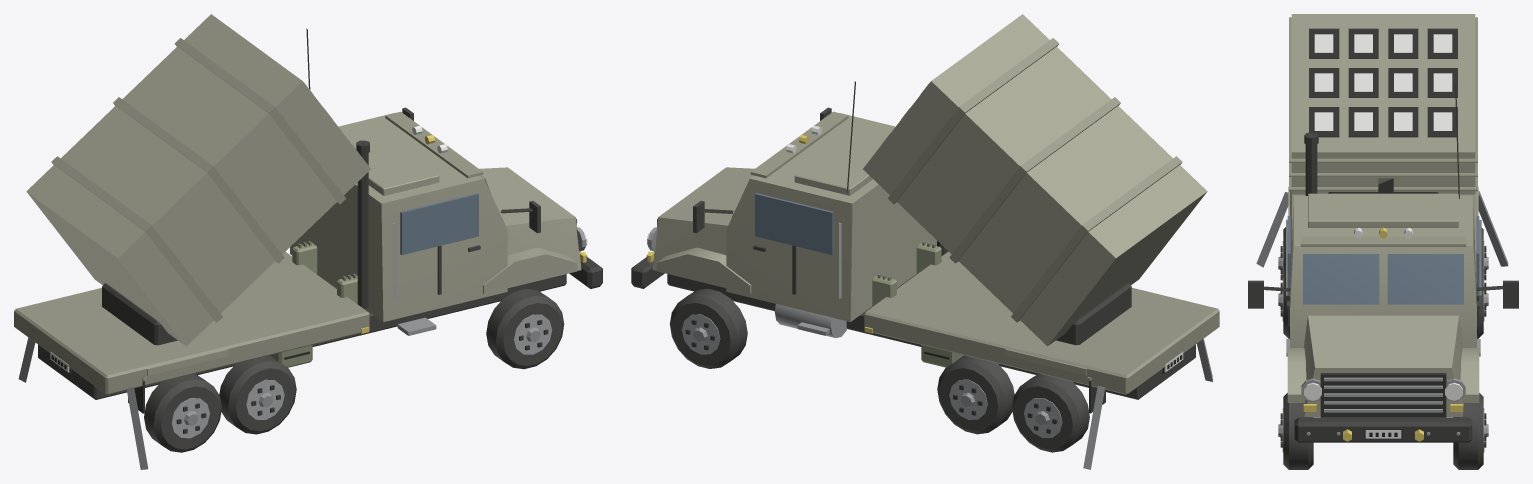
File: dome.glb
3 renders of one model, left to right at view 1: azimuth 30°, elevation 25°; view 2: azimuth 150°, elevation 25°; view 3: azimuth 270°, elevation 25°, orthographic.
Parts seen in each view (by area): view 1: hull, turret; view 2: hull, turret; view 3: hull, turret.
Boxes of the visible parts, left/top/right/bottom form: hull: left=14, top=28, right=602, bottom=469; turret: left=26, top=14, right=370, bottom=346; hull: left=631, top=81, right=1219, bottom=469; turret: left=863, top=14, right=1207, bottom=346; hull: left=1248, top=84, right=1518, bottom=469; turret: left=1289, top=14, right=1477, bottom=194.
Bounding box in the file's own units: 8.17 × 5.23 × 3.76.
